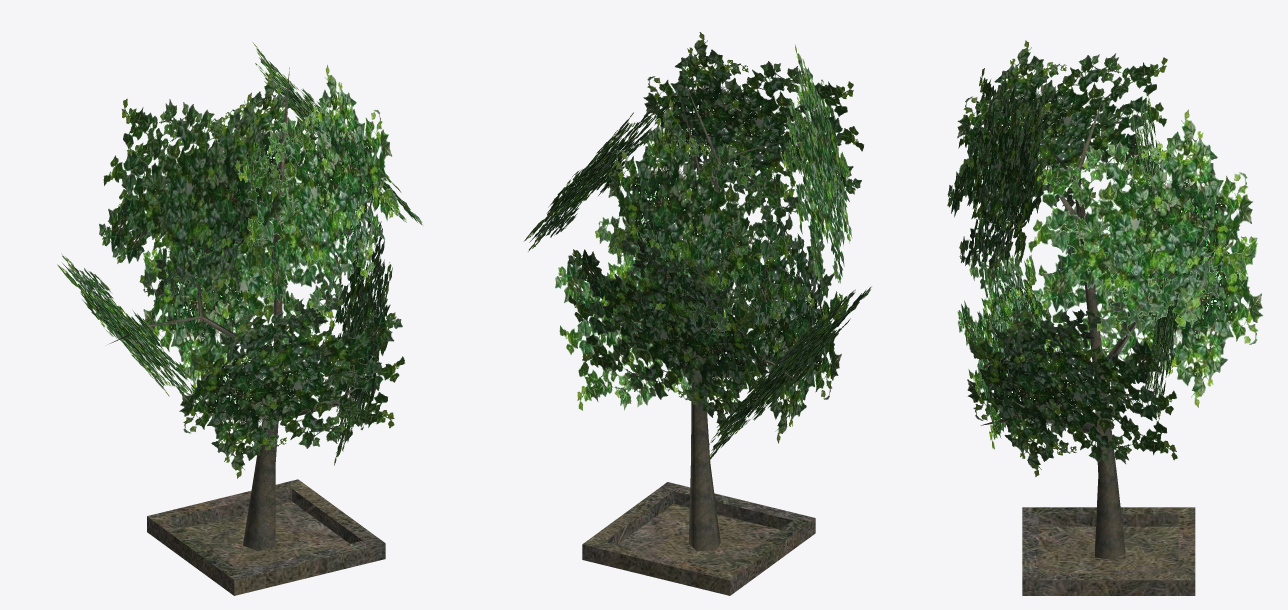
The model's file is Tree.dae.
3 views of the same model, side by side, from view 1: azimuth 30°, elevation 25°; view 2: azimuth 150°, elevation 25°; view 3: azimuth 270°, elevation 25° (orthographic). The views are drawn at different scales.
Parts seen in each view (by area): view 1: Plane, wood; view 2: Plane, wood; view 3: Plane, wood.
Boxes of the visible parts, <box> form: Plane: <box>57,42,422,478</box>; wood: <box>108,67,385,595</box>; Plane: <box>523,32,871,465</box>; wood: <box>582,78,815,595</box>; Plane: <box>947,40,1263,476</box>; wood: <box>980,99,1195,595</box>.
Size of the model in its own units: 2.06 by 1.99 by 3.16.
Materials: 3 (3 with a texture image).
